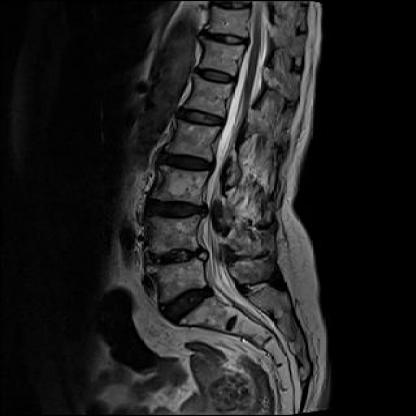Annular Tearrotation: (160, 290, 219, 319), (144, 244, 205, 269)
Disc Bulgerotation: (160, 290, 219, 319), (144, 244, 205, 269), (159, 152, 214, 173), (178, 109, 223, 128)
